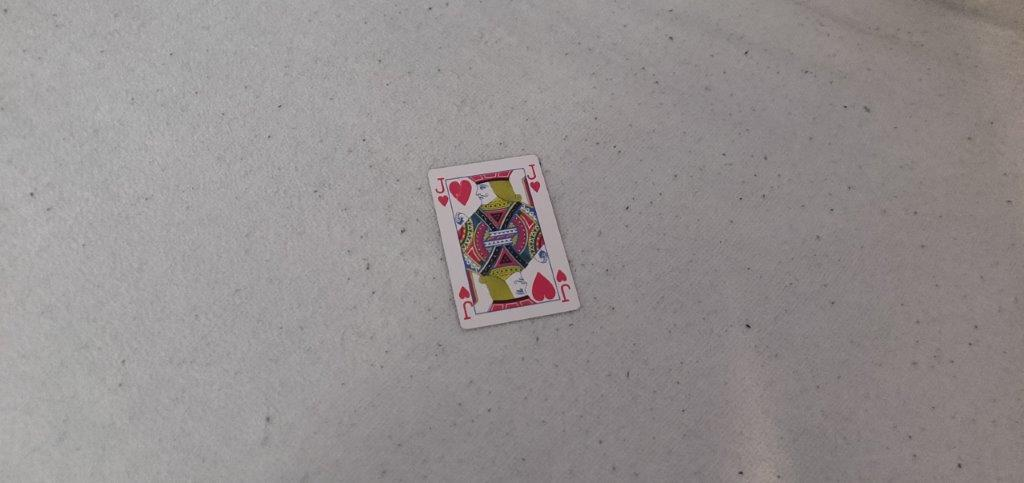JH: (431, 175, 452, 213), (524, 162, 543, 196)
